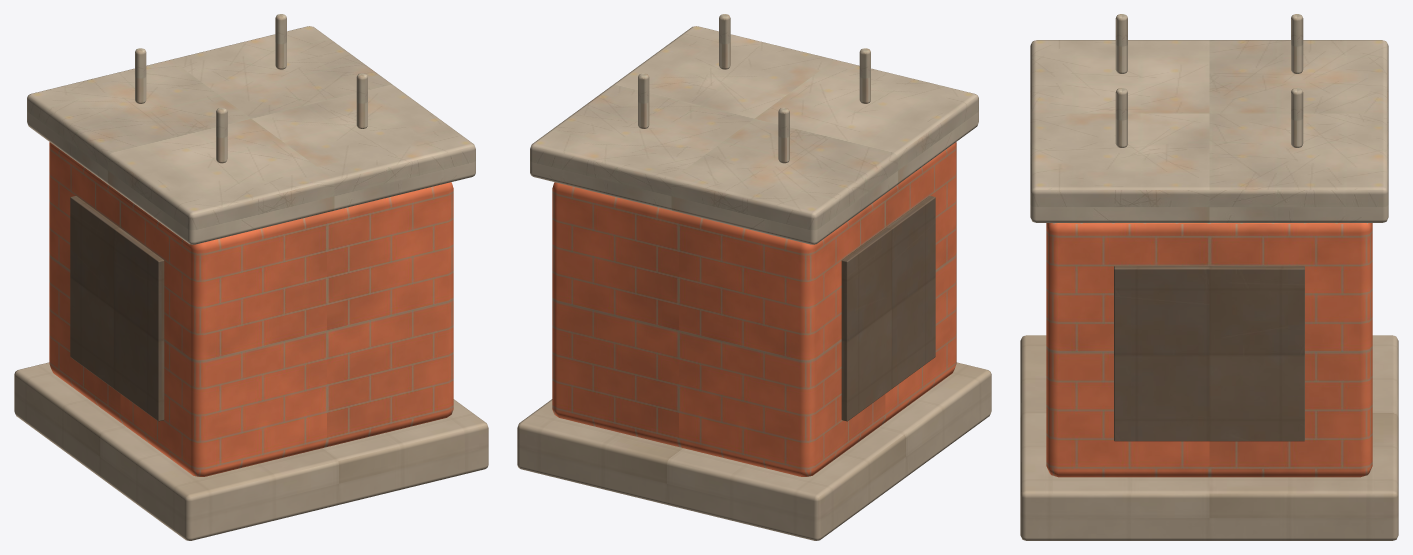
File: ff-wall.glb
3 views of the same model, side by side, from view 1: azimuth 30°, elevation 25°; view 2: azimuth 150°, elevation 25°; view 3: azimuth 270°, elevation 25° (orthographic). The views are drawn at different scales.
Parts seen in each view (by area): view 1: Body.003, Cap, Footing.001, Groove; view 2: Body.003, Cap, Footing.001, Groove; view 3: Cap, Body.003, Groove, Footing.001.
Part boxes in pixels (x1,y1,x2,y2): Body.003: (49, 142, 453, 476); Cap: (27, 14, 475, 244); Footing.001: (14, 362, 488, 540); Groove: (70, 196, 164, 421); Body.003: (552, 142, 956, 476); Cap: (530, 14, 978, 244); Footing.001: (517, 362, 991, 540); Groove: (841, 196, 935, 421); Cap: (1030, 14, 1388, 222); Body.003: (1046, 223, 1372, 477); Groove: (1114, 266, 1304, 441); Footing.001: (1020, 335, 1398, 540).
Bounding box in the file's own units: 0.95 × 1.14 × 0.95.
5 materials, 5 textured.
